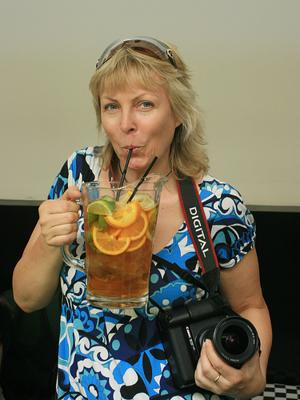person: (13, 36, 273, 400)
